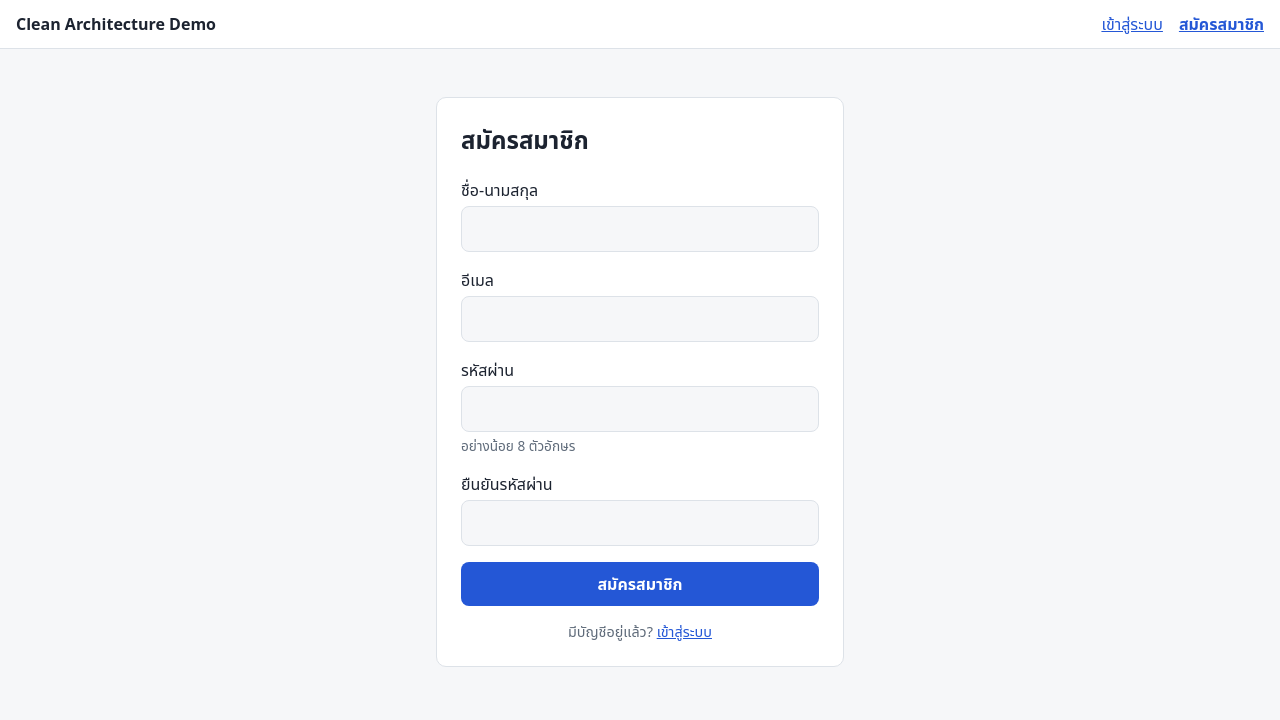
Test: RegisterPage › creates the account, signs in and opens the profile
Type "Jane Doe" into the field labelled "ชื่อ-นามสกุล". click: (640, 229)
box: [461,206,819,252]
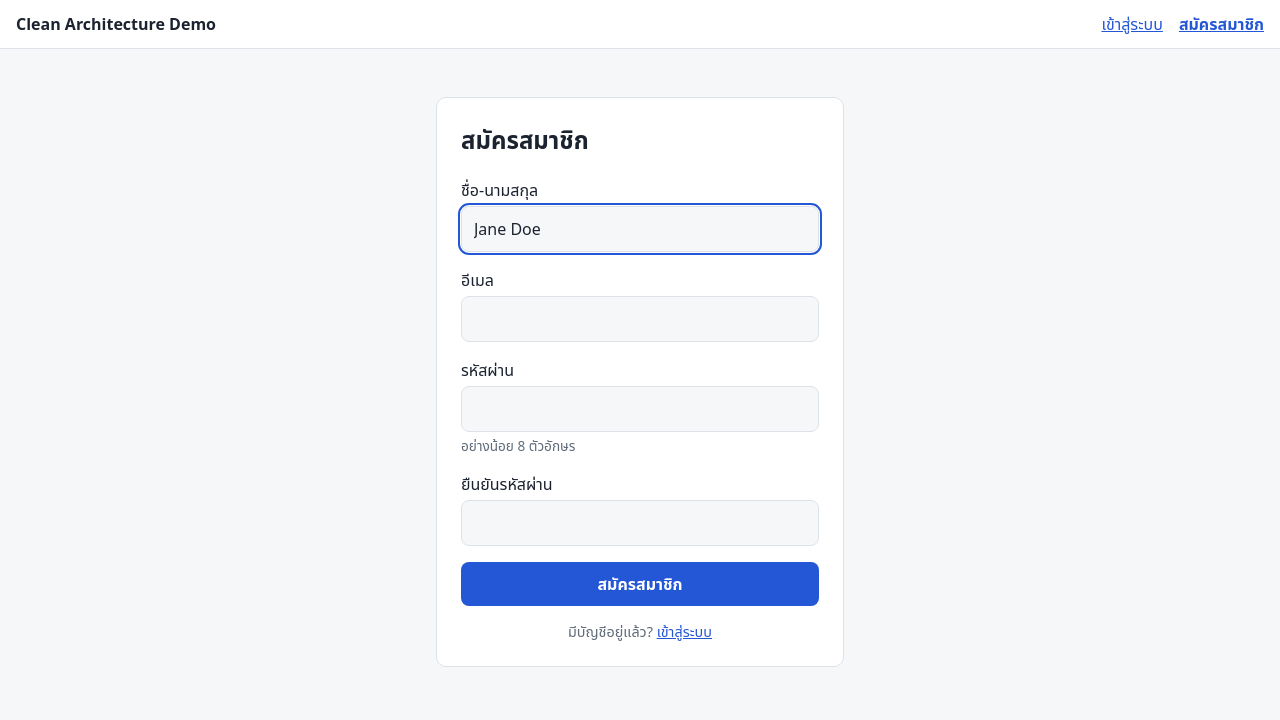
Type "jane@example.com" into the field labelled "อีเมล". click: (640, 319)
box: [461,296,819,342]
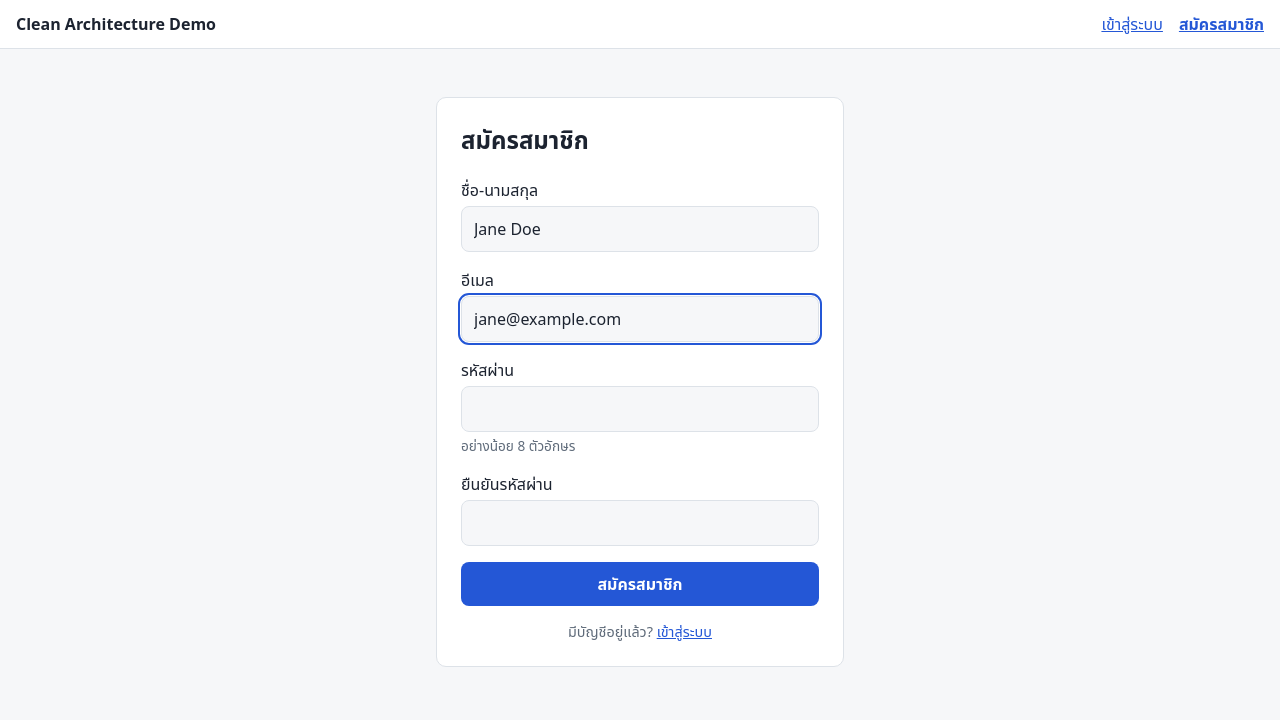
Type "s3cret-pass" into the password field labelled "รหัสผ่าน". click: (640, 409)
box: [461,386,819,432]
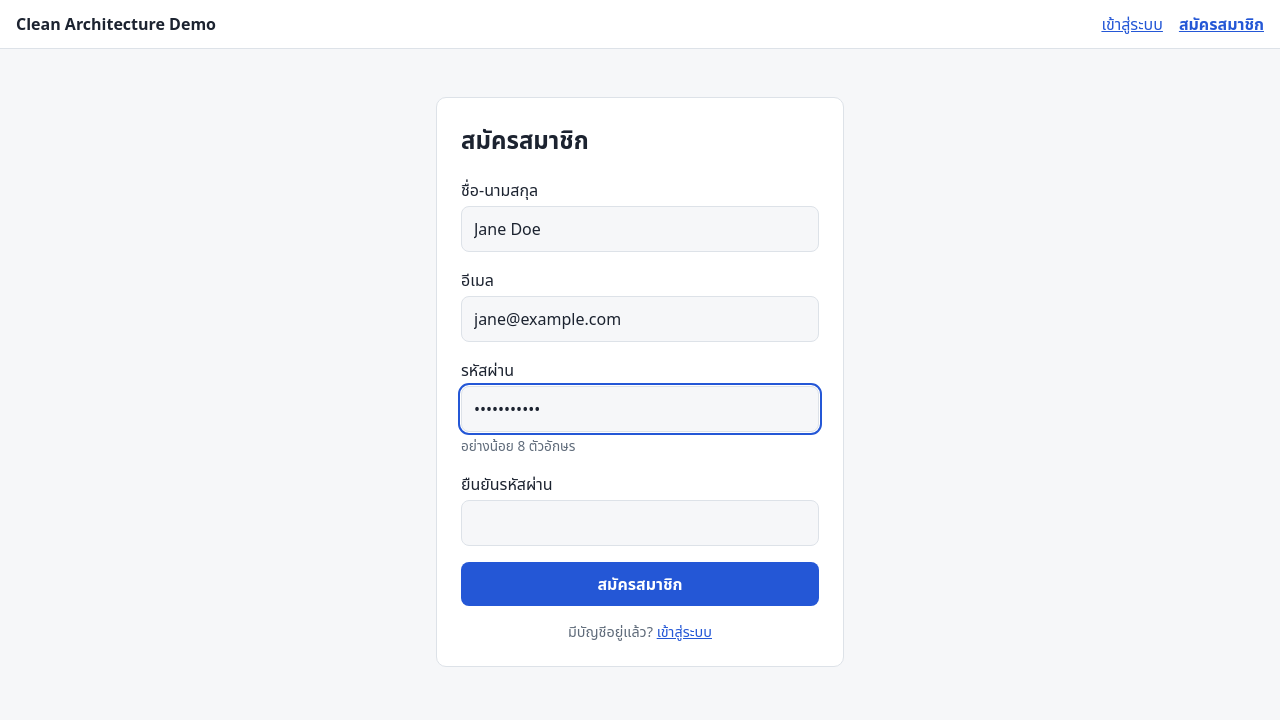
Type "s3cret-pass" into the password field labelled "ยืนยันรหัสผ่าน". click: (640, 523)
box: [461,500,819,546]
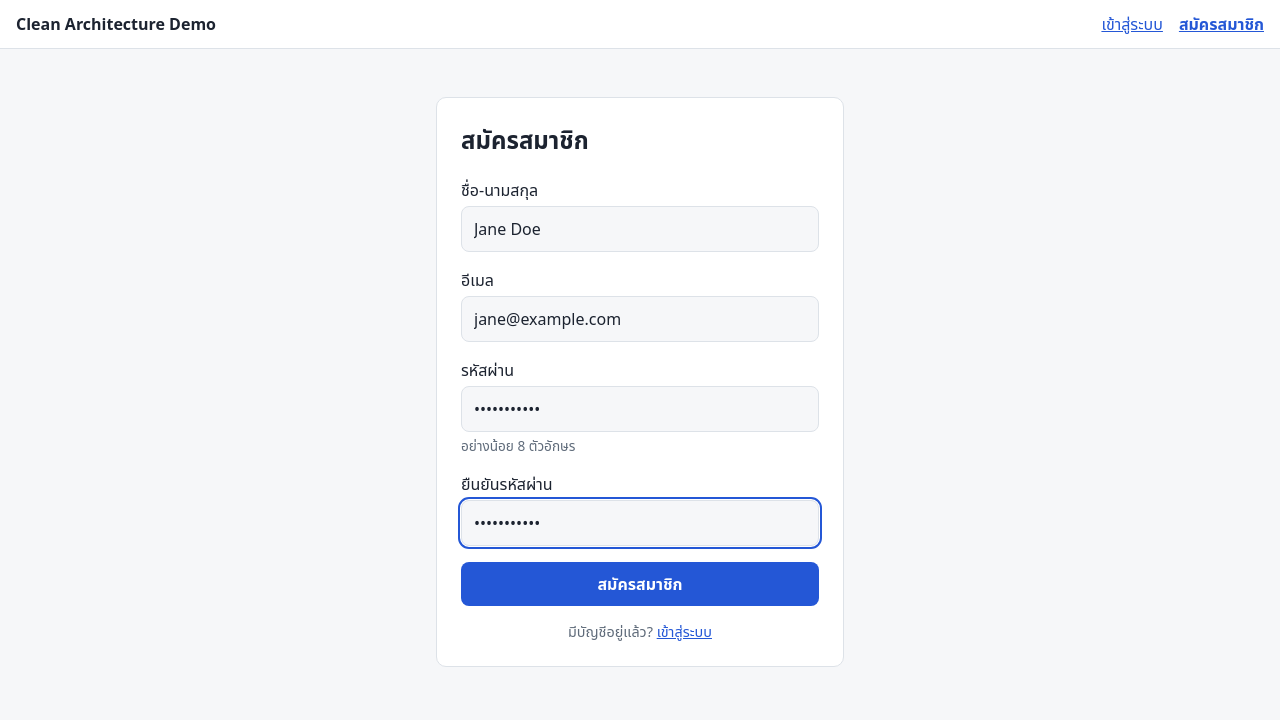
Click the button "สมัครสมาชิก". click: (640, 584)
box: [461,562,819,606]
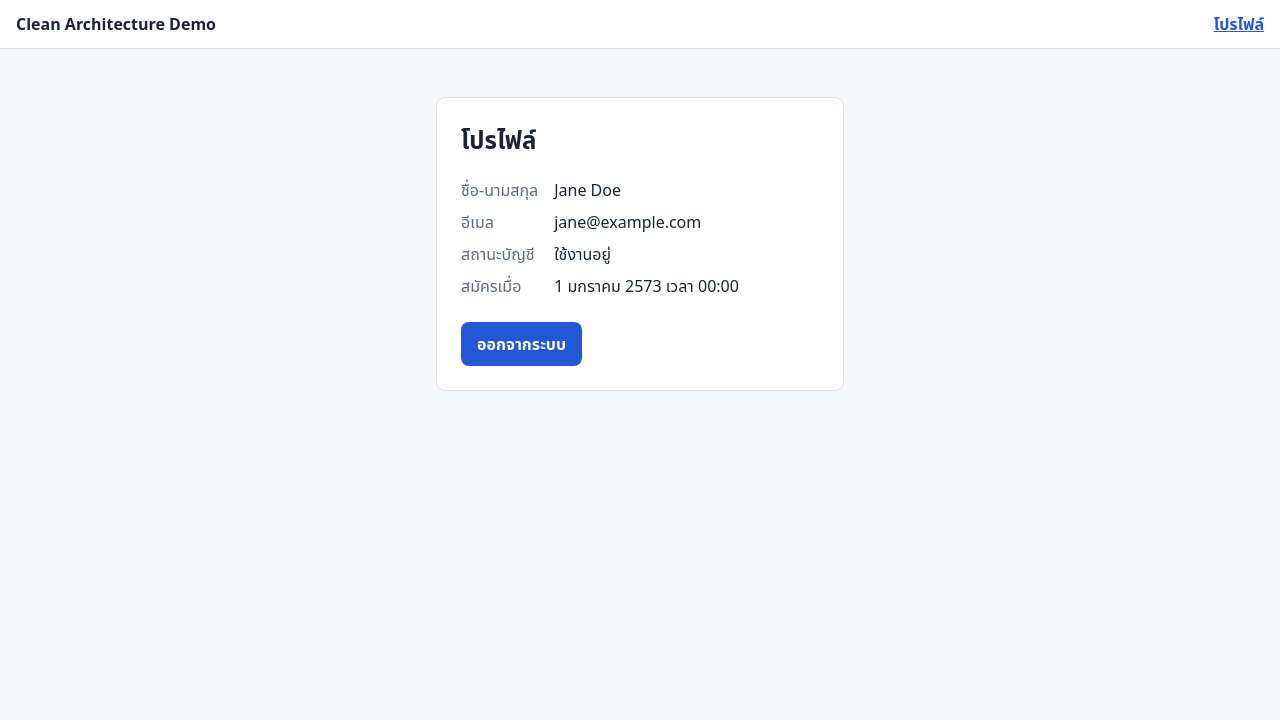
Check: the text "Jane Doe" is shown, box [554,179,621,201]
